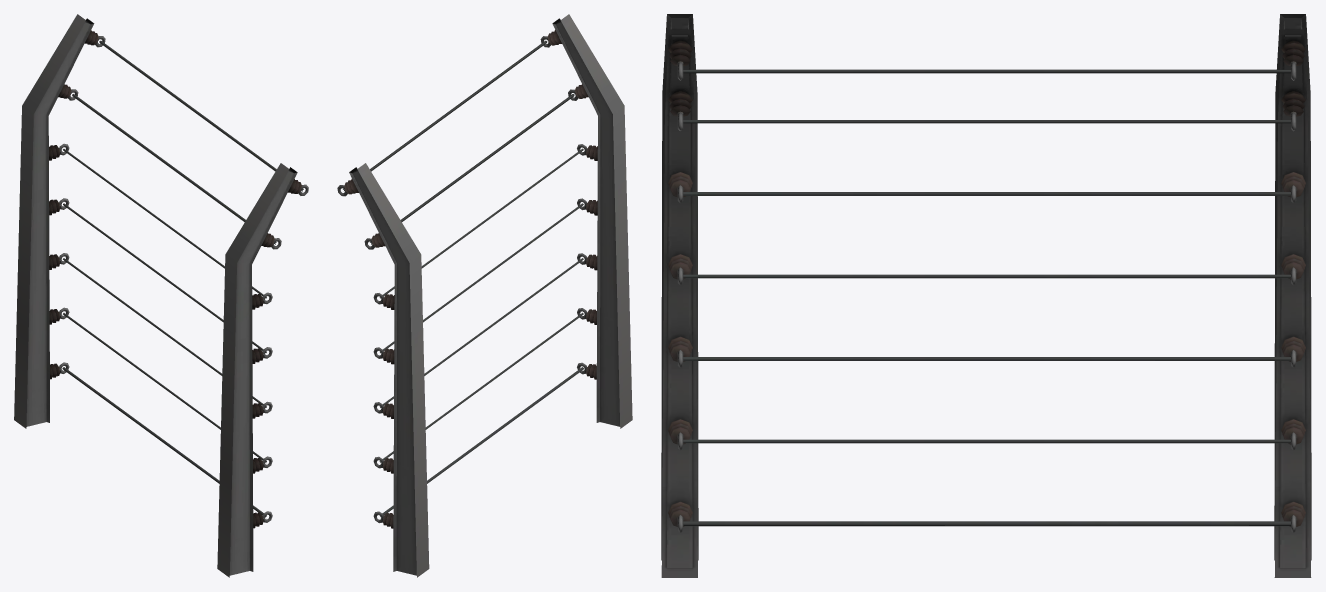
3 views of the same model, side by side, from view 1: azimuth 30°, elevation 25°; view 2: azimuth 150°, elevation 25°; view 3: azimuth 270°, elevation 25° (orthographic). The views are drawn at different scales.
Visible parts, largest first — view 1: body0_model0_lod0_mesh0; view 2: body0_model0_lod0_mesh0; view 3: body0_model0_lod0_mesh0.
Boxes of the visible parts, box(x1,y1,x2,y2) form: body0_model0_lod0_mesh0: box(14, 14, 308, 577); body0_model0_lod0_mesh0: box(337, 14, 632, 577); body0_model0_lod0_mesh0: box(661, 14, 1311, 577).
Size of the model in its own units: 87.89 by 385 by 384.
1 material, 1 textured.
